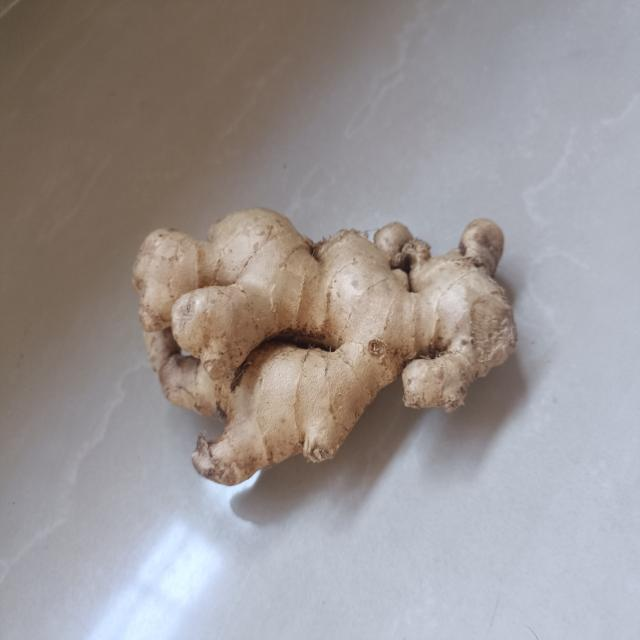ginger: (125, 206, 521, 490)
